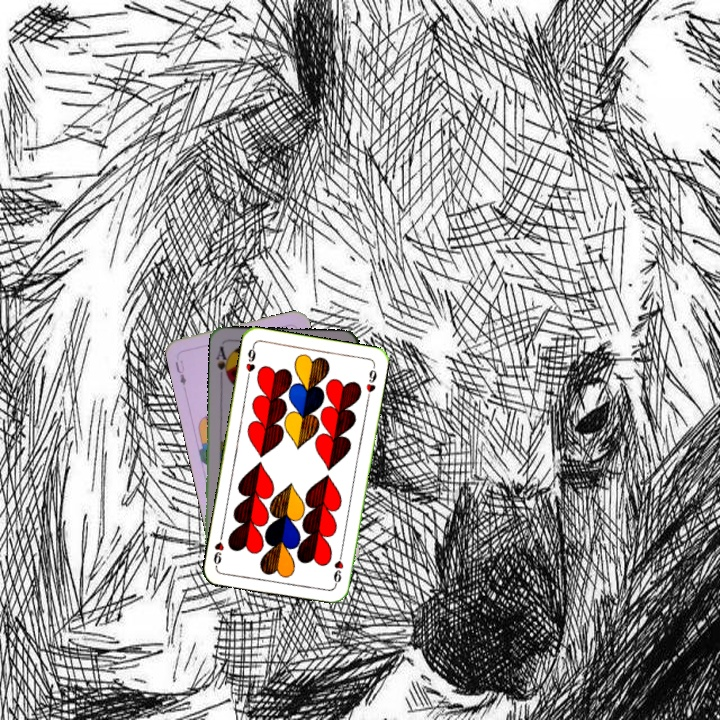EU: (171, 356, 189, 388)
H9: (329, 547, 346, 588), (242, 342, 258, 382)
SA: (212, 342, 232, 382)
